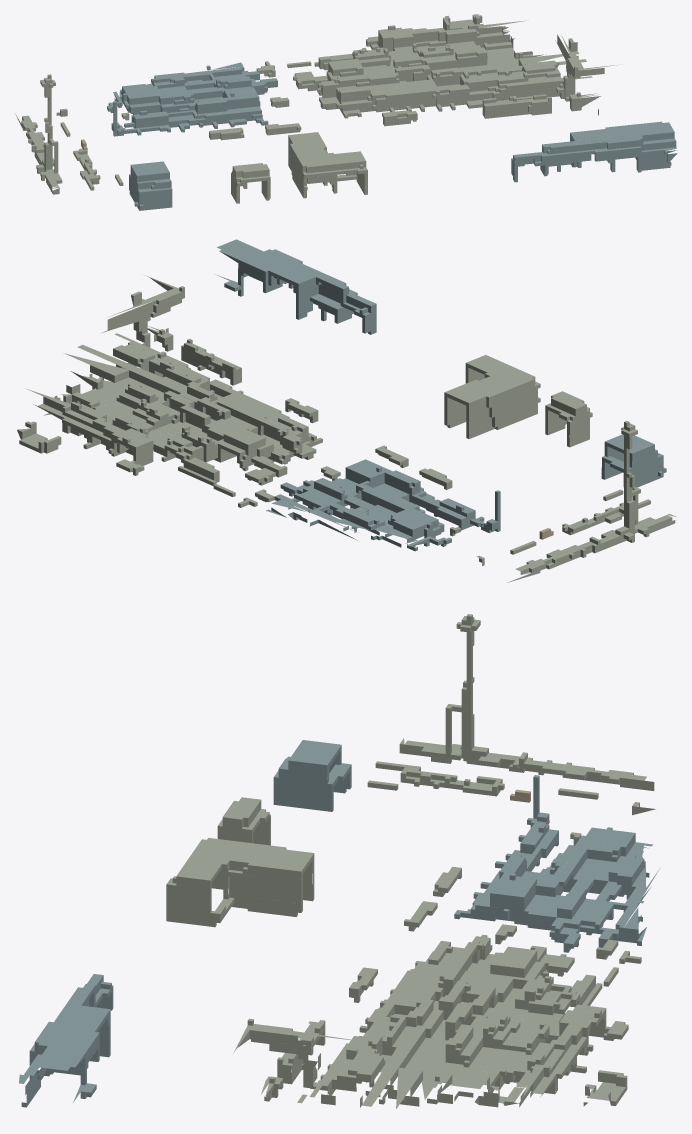
The picture shows the model from 3 angles, top to bottom: view 1: azimuth 30°, elevation 25°; view 2: azimuth 150°, elevation 25°; view 3: azimuth 270°, elevation 25°; orthographic projection. The views are drawn at different scales.
Parts seen in each view (by area): view 1: measured-industrial; view 2: measured-industrial; view 3: measured-industrial.
Boxes of the visible parts, x1,y1,x2,y2 form: measured-industrial: [15, 14, 677, 210]; measured-industrial: [17, 239, 676, 582]; measured-industrial: [19, 614, 659, 1108].
Bounding box in the file's own units: 270 × 48.02 × 196.
